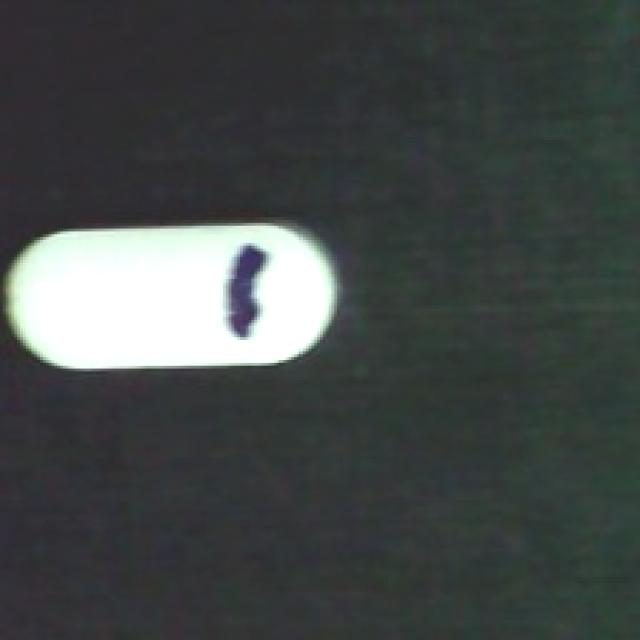defected: (0, 214, 343, 374)
